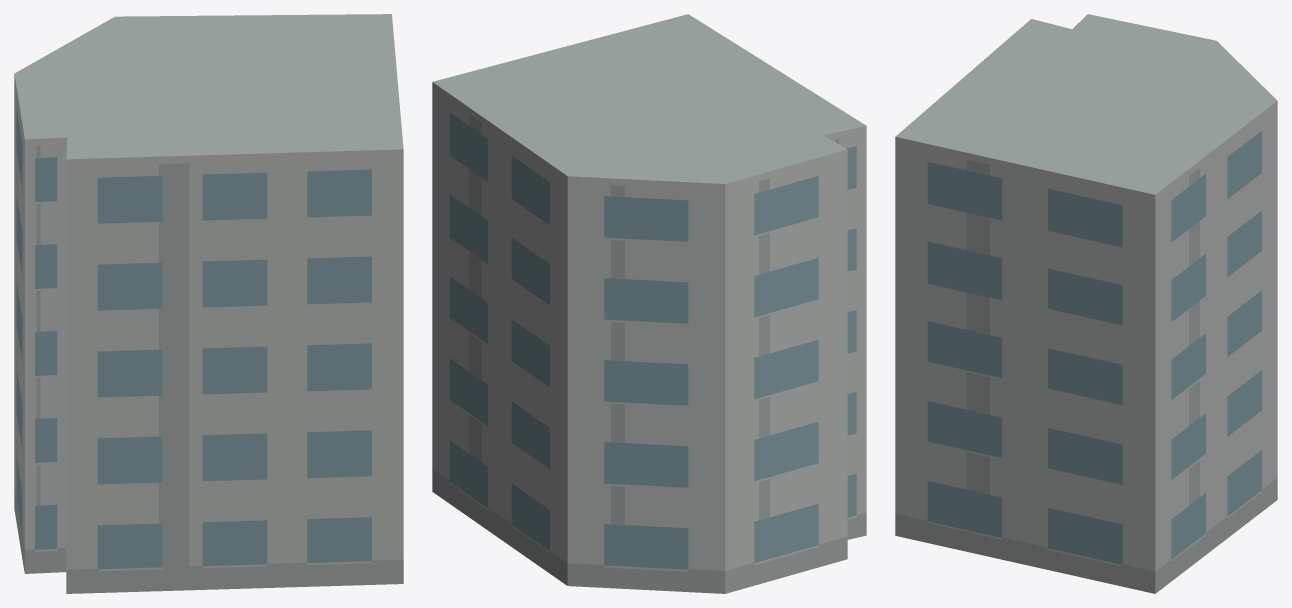
The model's file is survey-upis-32886756.glb.
3 views of the same model, side by side, from view 1: azimuth 30°, elevation 25°; view 2: azimuth 150°, elevation 25°; view 3: azimuth 270°, elevation 25° (orthographic). The views are drawn at different scales.
Parts seen in each view (by area): view 1: survey-upis-32886756.tmp; view 2: survey-upis-32886756.tmp; view 3: survey-upis-32886756.tmp.
Boxes of the visible parts, box(x1,y1,x2,y2) form: survey-upis-32886756.tmp: box(14, 14, 403, 593); survey-upis-32886756.tmp: box(432, 14, 866, 593); survey-upis-32886756.tmp: box(895, 14, 1277, 593).
Bounding box in the file's own units: 14.01 × 14.4 × 12.52.
